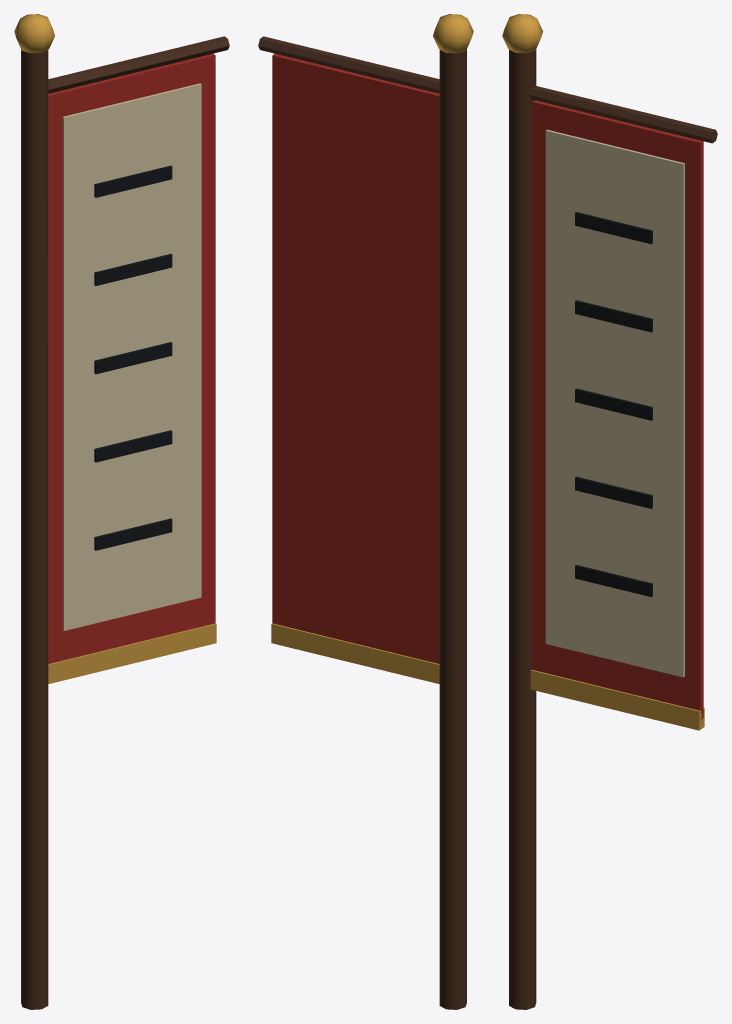
The model's file is prayer_banner.glb.
The picture shows the model from 3 angles, left to right: view 1: azimuth 30°, elevation 25°; view 2: azimuth 150°, elevation 25°; view 3: azimuth 330°, elevation 25°; orthographic projection.
Parts seen in each view (by area): view 1: Banner; view 2: Banner; view 3: Banner.
Part boxes in pixels (<box>): Banner: <box>14,14,229,1009</box>; Banner: <box>258,14,473,1009</box>; Banner: <box>502,14,717,1009</box>.
Size of what is drawn, in the model's own units: 1.37 by 6.17 by 0.24.
